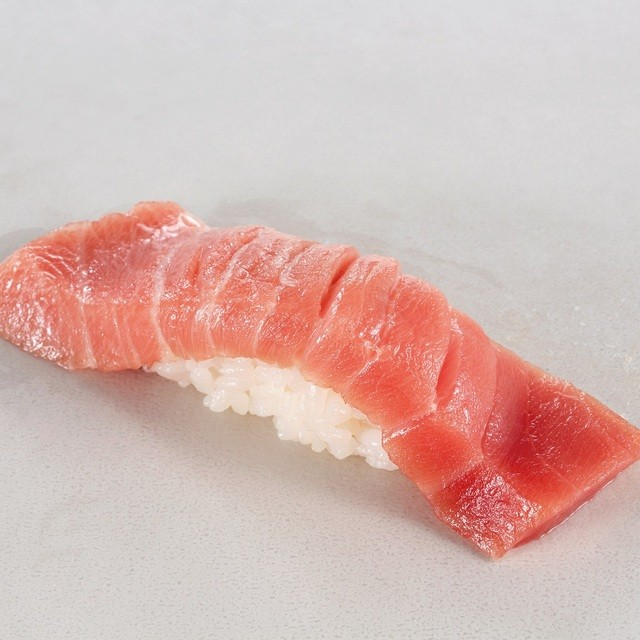medium_fatty_tuna: (3, 199, 640, 566)
